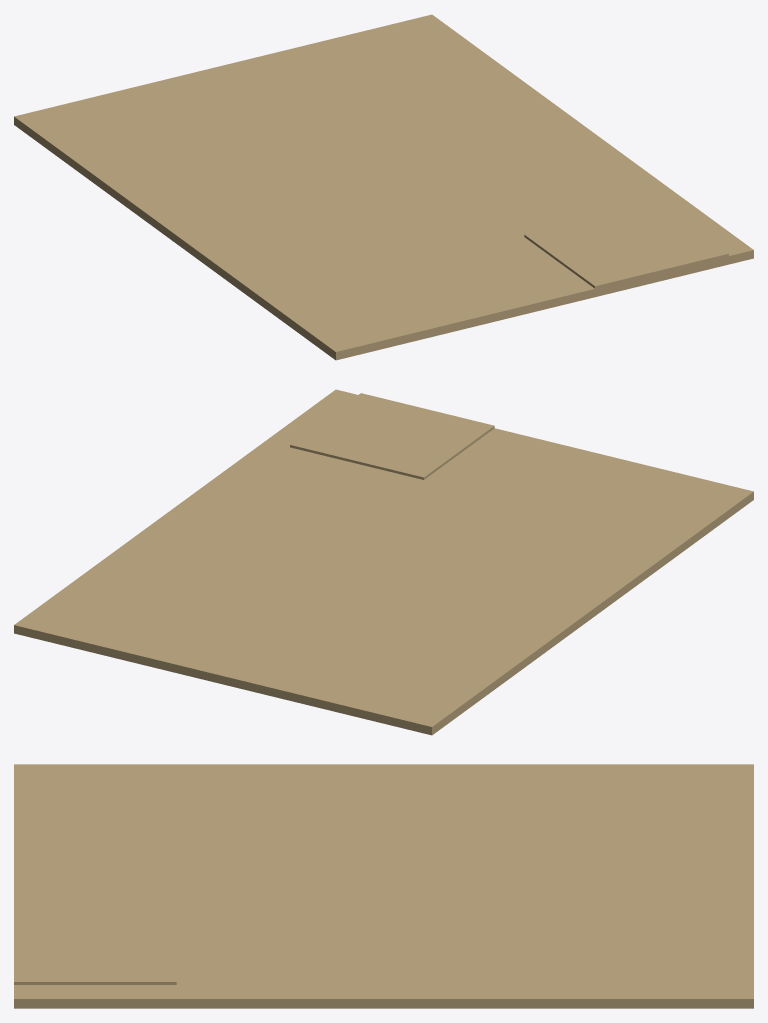
Rendered from EVIDENCE_FOLDER_LODs.fbx.
3 renders of one model, top to bottom at view 1: azimuth 30°, elevation 25°; view 2: azimuth 150°, elevation 25°; view 3: azimuth 270°, elevation 25°, orthographic. The views are drawn at different scales.
Visible parts, largest first — view 1: EVIDENCE_FOLDER_LOD0; view 2: EVIDENCE_FOLDER_LOD0; view 3: EVIDENCE_FOLDER_LOD0.
Boxes of the visible parts, x1,y1,x2,y2 form: EVIDENCE_FOLDER_LOD0: (14,14,753,360); EVIDENCE_FOLDER_LOD0: (14,389,753,735); EVIDENCE_FOLDER_LOD0: (14,764,753,1008).
Size of what is drawn, in the model's own units: 0.24 by 0.006 by 0.32.
